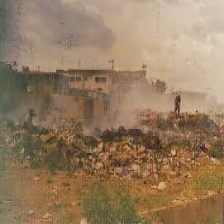smoke: (102, 74, 180, 133)
